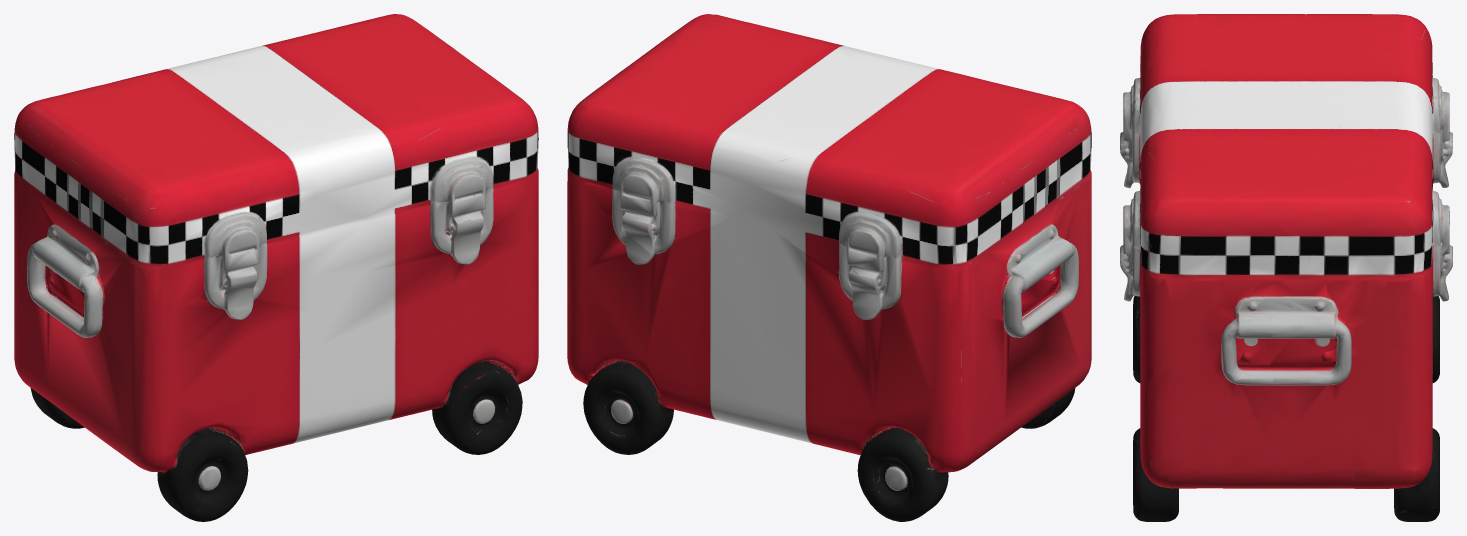
Rendered from chest-racers.glb.
3 views of the same model, side by side, from view 1: azimuth 30°, elevation 25°; view 2: azimuth 150°, elevation 25°; view 3: azimuth 270°, elevation 25° (orthographic). The views are drawn at different scales.
Visible parts, largest first — view 1: Mesh_0; view 2: Mesh_0; view 3: Mesh_0.
Part boxes in pixels (bbox=[...]): Mesh_0: bbox=[14, 14, 538, 521]; Mesh_0: bbox=[567, 14, 1091, 521]; Mesh_0: bbox=[1120, 14, 1452, 521].
Size of the model in its own units: 1.9 by 1.38 by 1.21.
1 material, 1 textured.
